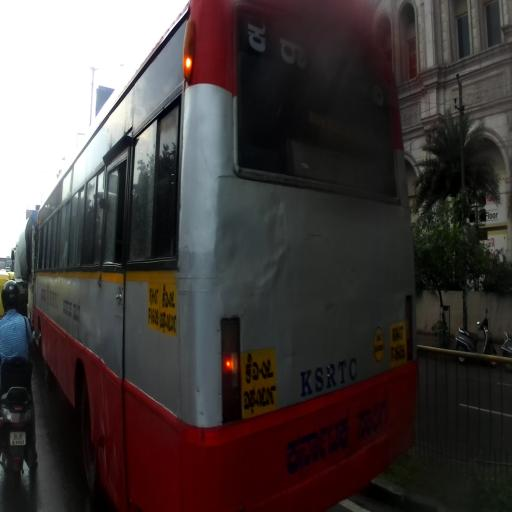street_light_0: (92, 63, 125, 77)
